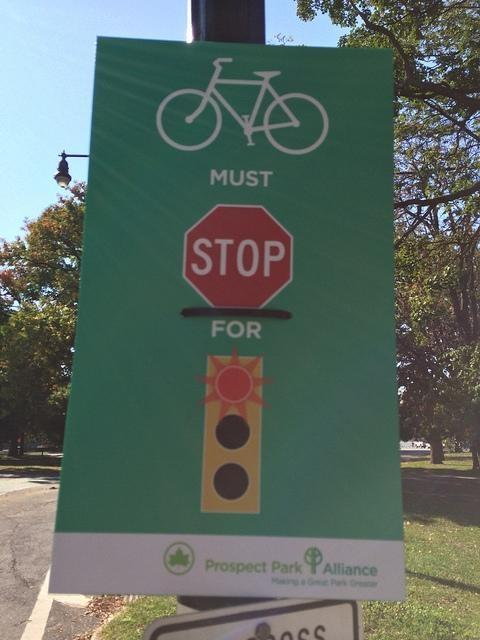bicycle: (153, 56, 334, 159)
